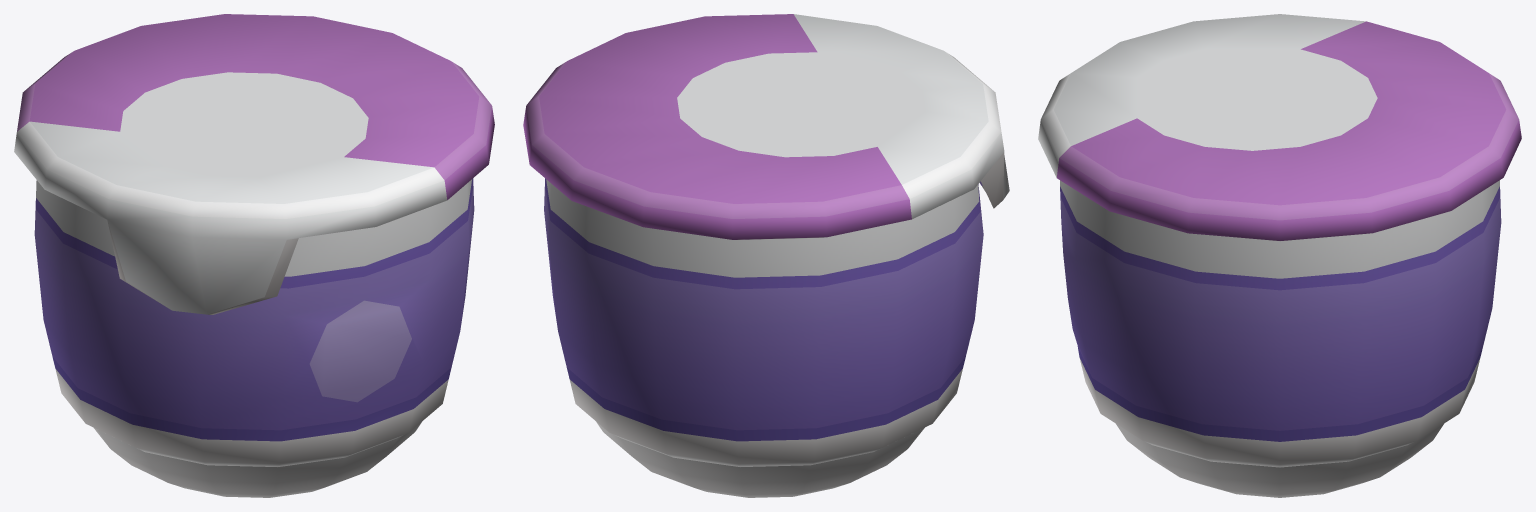
Rendered from Sour_Cream_003.fbx.
The picture shows the model from 3 angles, left to right: view 1: azimuth 30°, elevation 25°; view 2: azimuth 150°, elevation 25°; view 3: azimuth 270°, elevation 25°; orthographic projection.
Visible parts, largest first — view 1: Sour_Cream_003; view 2: Sour_Cream_003; view 3: Sour_Cream_003.
Boxes of the visible parts, x1,y1,x2,y2 form: Sour_Cream_003: (14,14,494,497); Sour_Cream_003: (523,14,1009,497); Sour_Cream_003: (1038,14,1521,497).
Size of the model in its own units: 18.46 by 18.46 by 14.32.
